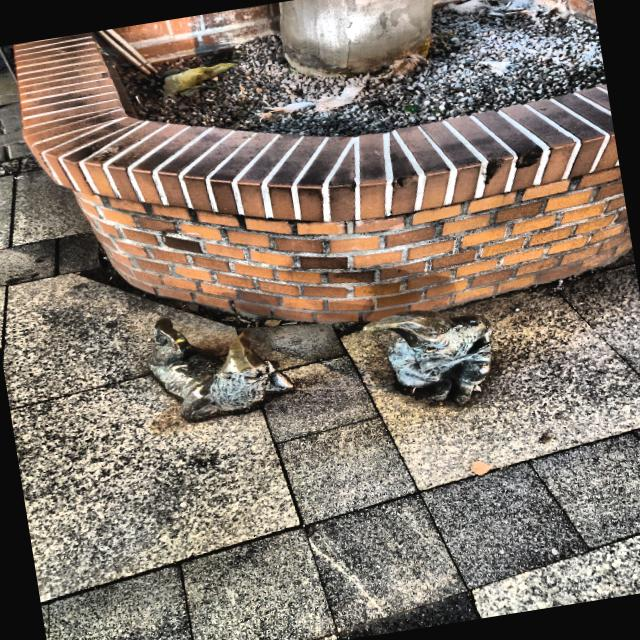Grajek_i_Meloman: (150, 310, 493, 423)
